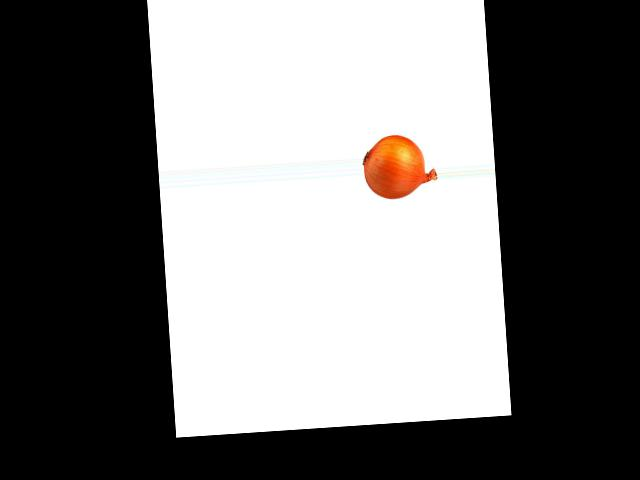onion: (362, 132, 429, 202)
